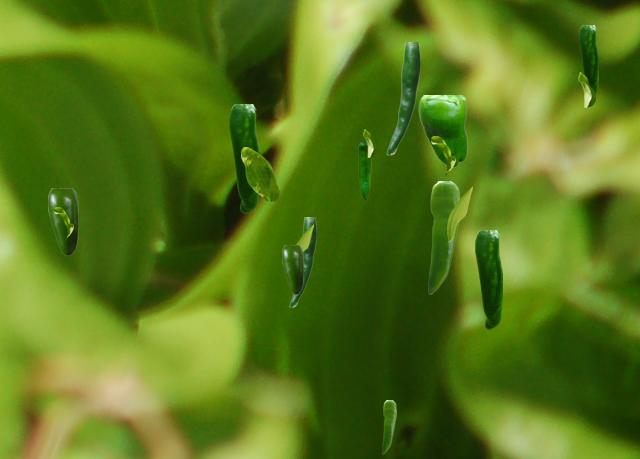green_chili: (386, 42, 419, 154), (428, 181, 459, 293), (418, 95, 466, 166), (229, 104, 258, 212), (475, 230, 501, 328), (289, 217, 315, 306), (48, 188, 77, 254), (579, 25, 597, 95), (282, 245, 302, 293), (382, 400, 395, 453), (358, 142, 370, 199)
